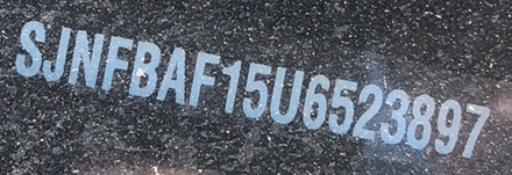letter: (126, 38, 164, 99), (67, 29, 105, 88), (100, 33, 136, 92), (270, 65, 306, 124), (154, 45, 186, 106), (186, 51, 220, 108), (324, 78, 358, 135), (350, 82, 384, 139), (14, 18, 46, 78), (460, 103, 494, 158), (241, 62, 273, 119), (378, 88, 408, 147), (406, 92, 436, 150), (40, 27, 72, 81), (432, 99, 462, 156), (300, 72, 330, 129), (216, 58, 244, 113)
